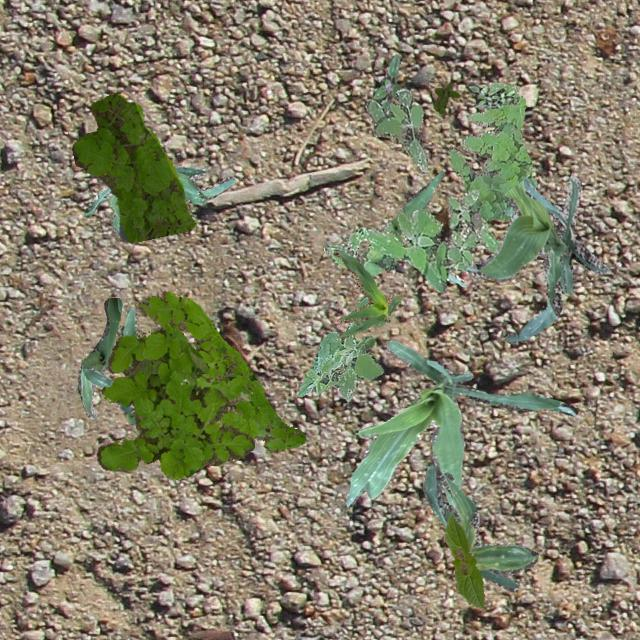crop: (344, 340, 576, 508), (466, 175, 608, 342), (422, 462, 538, 590), (82, 164, 234, 234), (380, 170, 466, 286), (84, 306, 140, 434), (332, 248, 400, 338), (76, 296, 122, 418), (443, 514, 482, 606)
weed: (136, 290, 304, 452), (95, 322, 254, 478), (70, 92, 196, 242), (322, 188, 498, 292), (448, 82, 536, 220), (296, 294, 382, 400), (364, 89, 426, 172), (372, 54, 401, 114), (466, 82, 514, 108), (432, 81, 458, 112)
